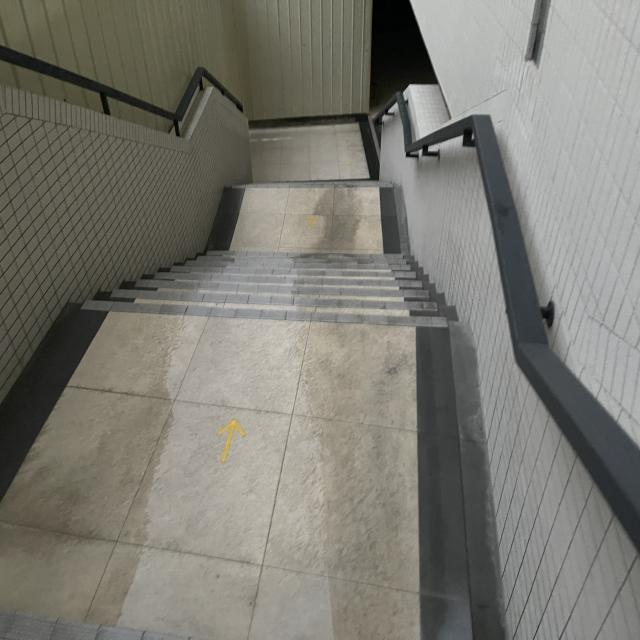Stairs: (50, 126, 481, 357)
